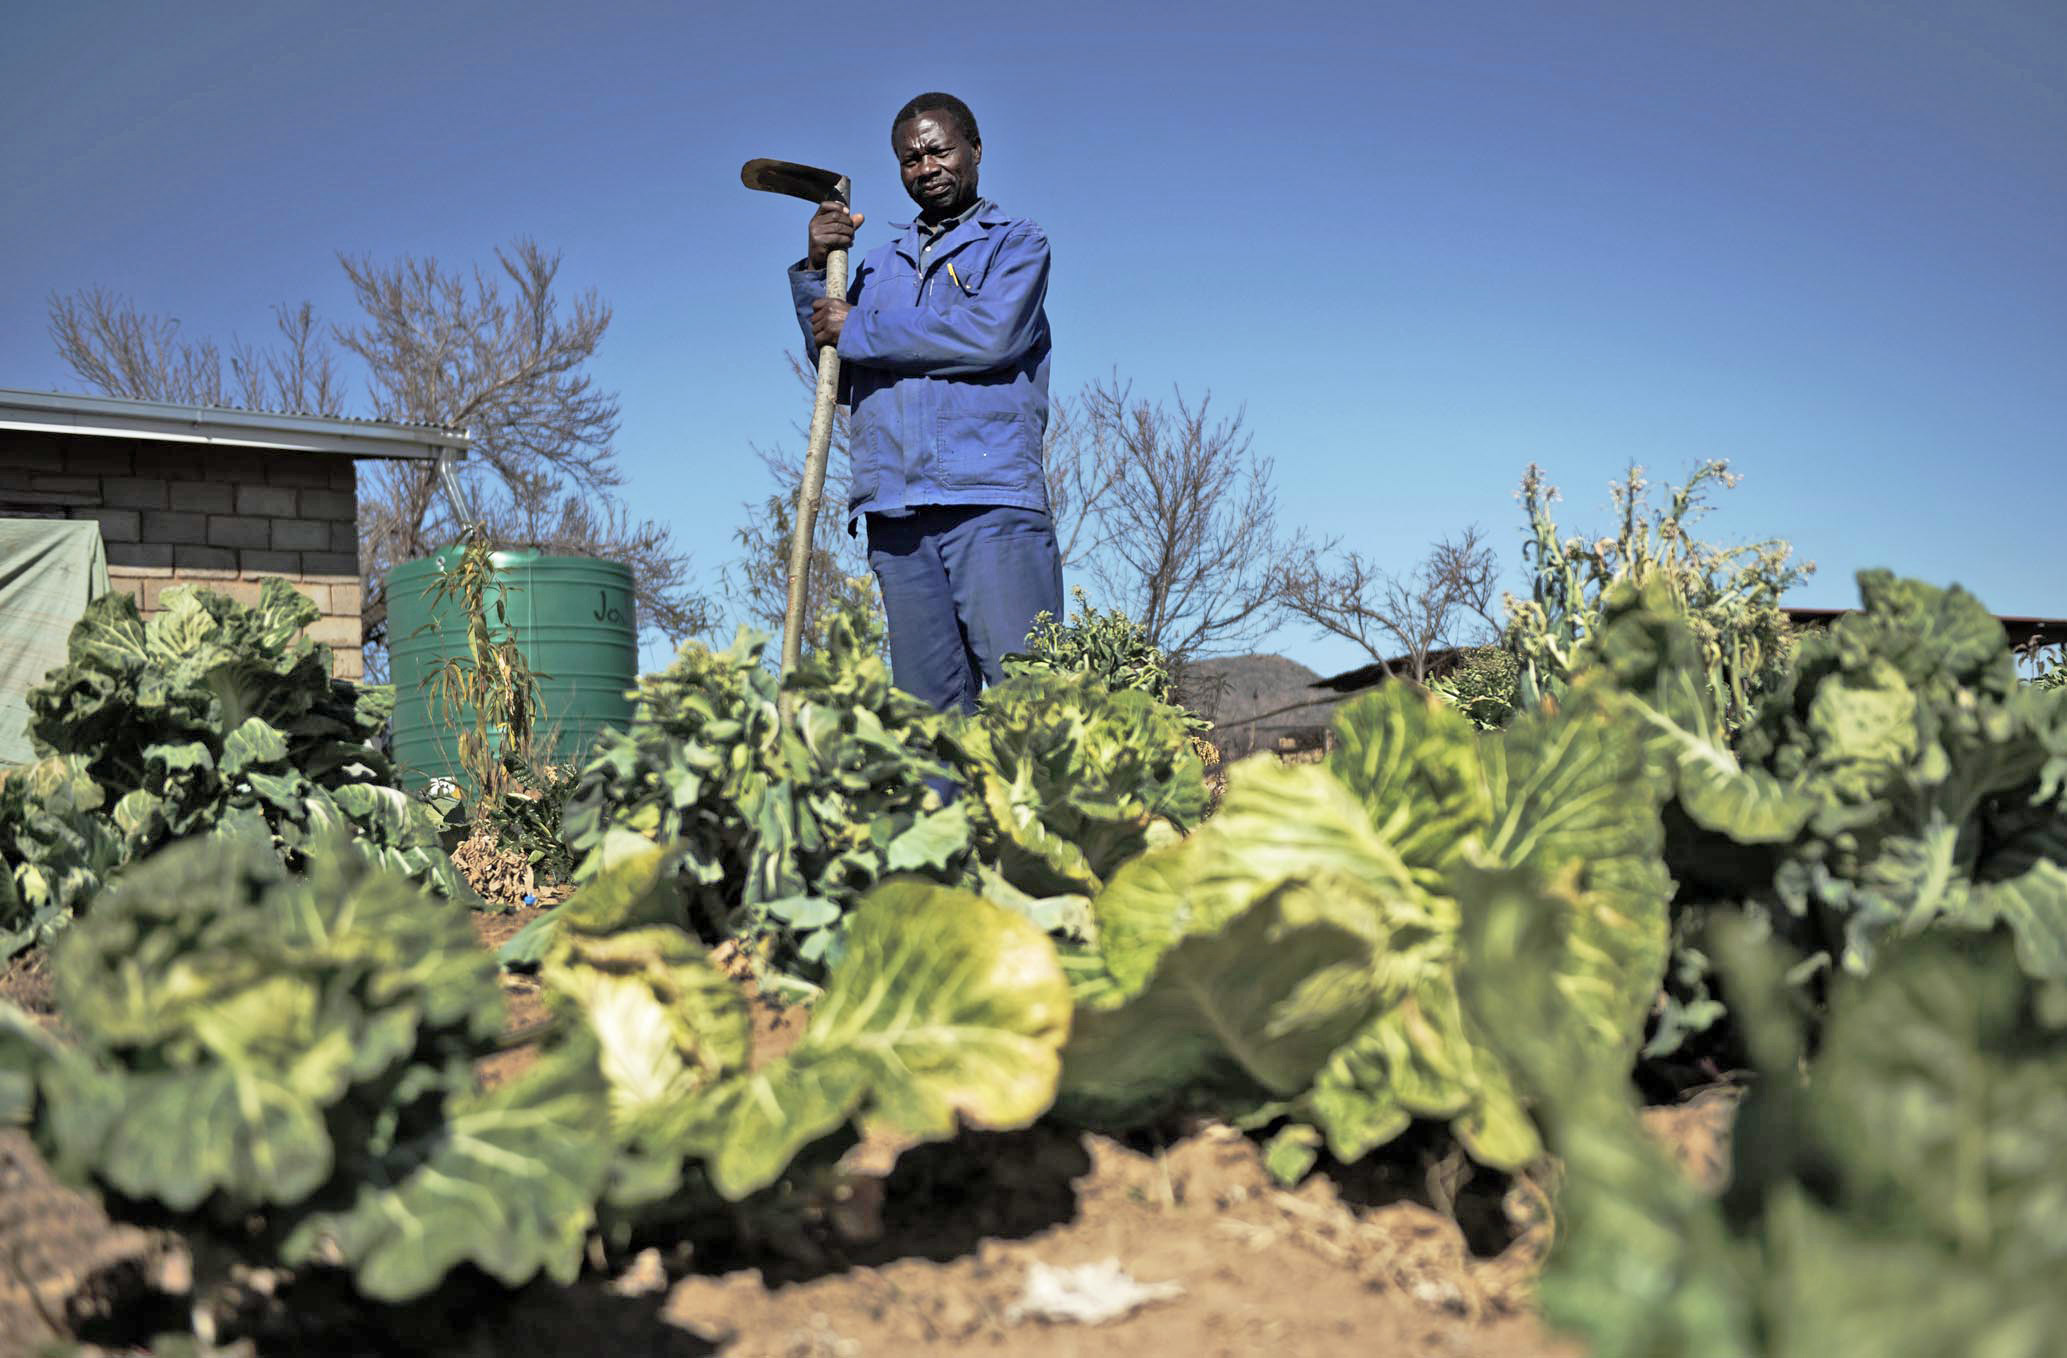human: (705, 83, 1133, 828)
